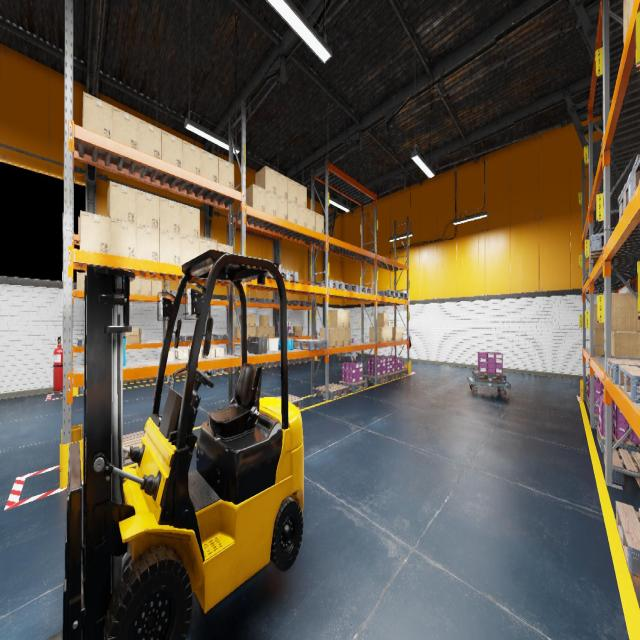box: (82, 92, 112, 139), (80, 211, 110, 254), (107, 182, 136, 224), (112, 106, 138, 150), (611, 292, 640, 331), (110, 218, 136, 258), (138, 118, 161, 159), (136, 190, 159, 229), (136, 225, 159, 261), (162, 130, 182, 168), (611, 331, 640, 357), (160, 197, 180, 234), (160, 230, 180, 264), (182, 140, 201, 175), (181, 203, 199, 238), (255, 166, 277, 194), (201, 148, 218, 182), (181, 235, 199, 265), (246, 184, 265, 212), (218, 157, 234, 188), (265, 190, 277, 217), (320, 328, 337, 347), (623, 0, 629, 46), (200, 239, 217, 255), (329, 309, 344, 327), (277, 172, 287, 199), (594, 329, 604, 355), (126, 327, 142, 343), (277, 195, 287, 220), (594, 304, 604, 328), (288, 178, 297, 204), (369, 327, 384, 342), (288, 200, 297, 224), (298, 183, 306, 208), (374, 312, 388, 326), (189, 342, 201, 358), (298, 205, 306, 228), (307, 208, 315, 230), (151, 280, 162, 296), (77, 272, 86, 290), (217, 243, 233, 253), (141, 279, 151, 295), (130, 278, 140, 294), (392, 327, 404, 340), (316, 212, 323, 234), (160, 351, 173, 361), (202, 348, 214, 358), (175, 349, 187, 359), (629, 0, 634, 23), (259, 315, 269, 326), (240, 315, 250, 326), (344, 328, 350, 346), (338, 328, 344, 346), (344, 310, 350, 327), (212, 347, 223, 356), (293, 326, 302, 336), (256, 326, 263, 336), (250, 315, 256, 326), (250, 326, 256, 336), (235, 326, 240, 338), (388, 327, 392, 341), (384, 327, 388, 341), (264, 327, 269, 337), (270, 327, 274, 337), (247, 326, 250, 338), (78, 217, 80, 234), (210, 238, 217, 242), (202, 237, 210, 240), (200, 236, 202, 239)
forklift: (82, 249, 303, 639)
pallets: (616, 501, 640, 578), (603, 445, 640, 488), (597, 426, 640, 454), (606, 358, 640, 385), (618, 365, 640, 403), (123, 431, 144, 466), (618, 171, 632, 220), (590, 231, 613, 259), (316, 384, 348, 399), (472, 371, 506, 384), (276, 394, 304, 409), (294, 339, 327, 350), (268, 270, 298, 282), (632, 152, 640, 196), (339, 380, 368, 392), (314, 280, 344, 290), (364, 374, 390, 384), (594, 414, 613, 426), (593, 245, 603, 266), (339, 283, 358, 292), (352, 286, 372, 294), (167, 290, 187, 298), (377, 290, 399, 297), (171, 335, 193, 342), (386, 371, 400, 380), (395, 368, 408, 377), (260, 361, 279, 367), (192, 335, 214, 340), (393, 292, 408, 298), (213, 368, 228, 374), (276, 332, 294, 337), (212, 334, 228, 339), (235, 296, 248, 302), (249, 297, 262, 303), (262, 299, 277, 304), (279, 359, 294, 364), (201, 369, 213, 375), (291, 358, 304, 363), (288, 301, 304, 305), (585, 268, 589, 281), (78, 338, 84, 346), (302, 357, 314, 361), (340, 351, 356, 354), (586, 393, 589, 408), (302, 301, 311, 306), (79, 386, 84, 394), (234, 366, 240, 372), (588, 399, 590, 415), (583, 273, 585, 285)
